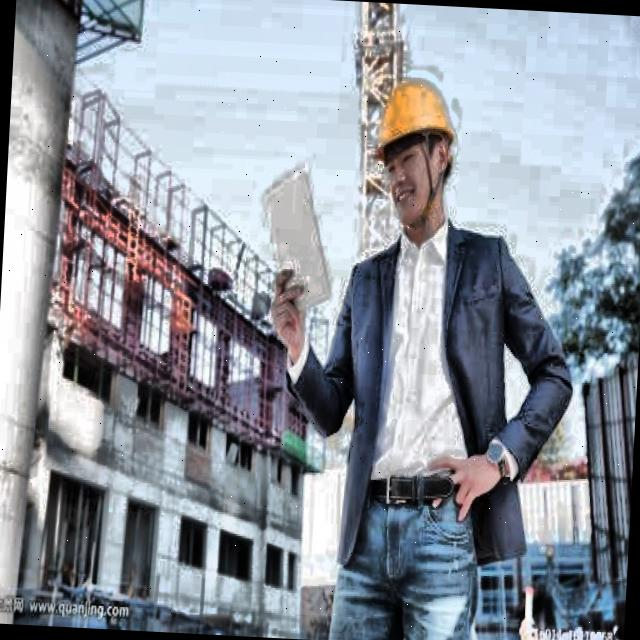helmet: (362, 54, 459, 249)
